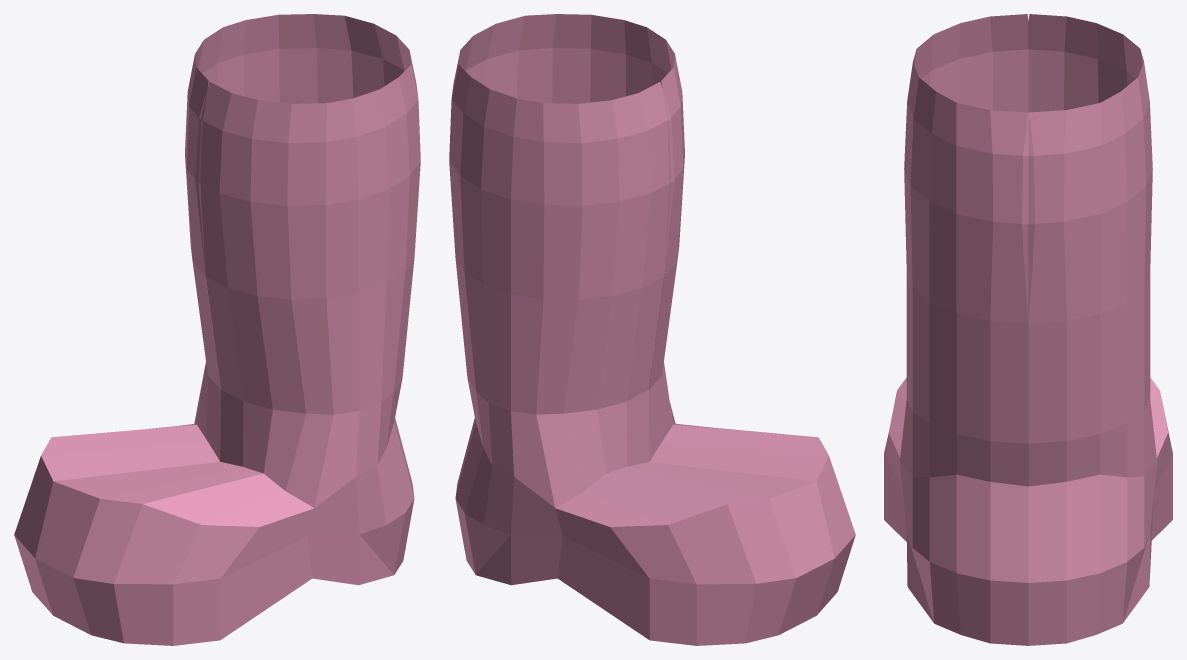
The model's file is das_boots_back3.obj.
3 renders of one model, left to right at view 1: azimuth 30°, elevation 25°; view 2: azimuth 150°, elevation 25°; view 3: azimuth 270°, elevation 25°, orthographic. The views are drawn at different scales.
Parts seen in each view (by area): view 1: Cylinder003, Cylinder004; view 2: Cylinder004, Cylinder003; view 3: Cylinder004, Cylinder003.
Part boxes in pixels (x1=…): Cylinder003: x1=35, y1=36, x2=420, y2=645; Cylinder004: x1=14, y1=14, x2=404, y2=614; Cylinder004: x1=449, y1=36, x2=834, y2=645; Cylinder003: x1=465, y1=14, x2=855, y2=614; Cylinder004: x1=1022, y1=14, x2=1172, y2=645; Cylinder003: x1=884, y1=14, x2=1034, y2=645.
Bounding box in the file's own units: 76.77 × 97.78 × 47.83.
